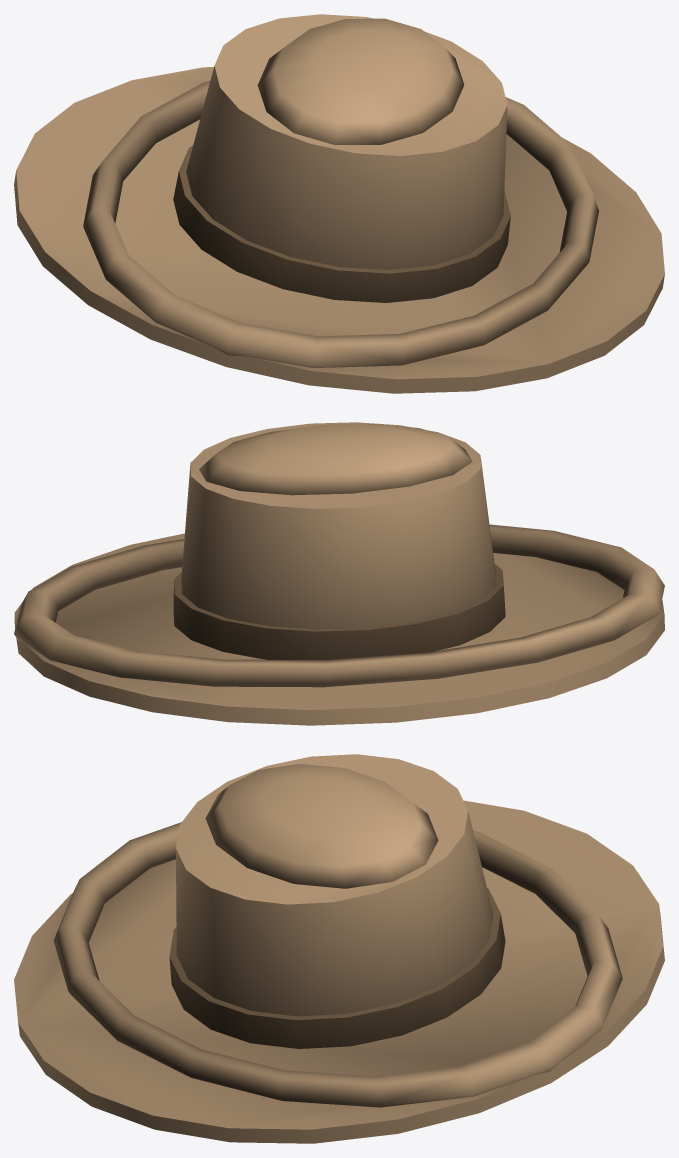
Rendered from cowboy_head.fbx.
3 renders of one model, top to bottom at view 1: azimuth 30°, elevation 25°; view 2: azimuth 150°, elevation 25°; view 3: azimuth 270°, elevation 25°, orthographic.
Visible parts, largest first — view 1: cowboy_head; view 2: cowboy_head; view 3: cowboy_head.
Part boxes in pixels (box(x1,y1,x2,y2)): cowboy_head: box(14, 14, 664, 393); cowboy_head: box(14, 422, 664, 725); cowboy_head: box(14, 754, 664, 1143).
Size of the model in its own units: 1.59 by 0.6126 by 1.59.
